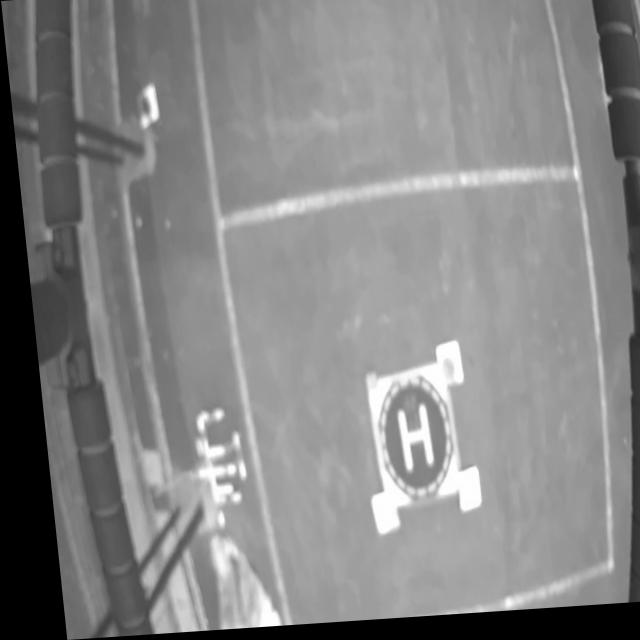Helipad: (386, 406, 423, 476)
